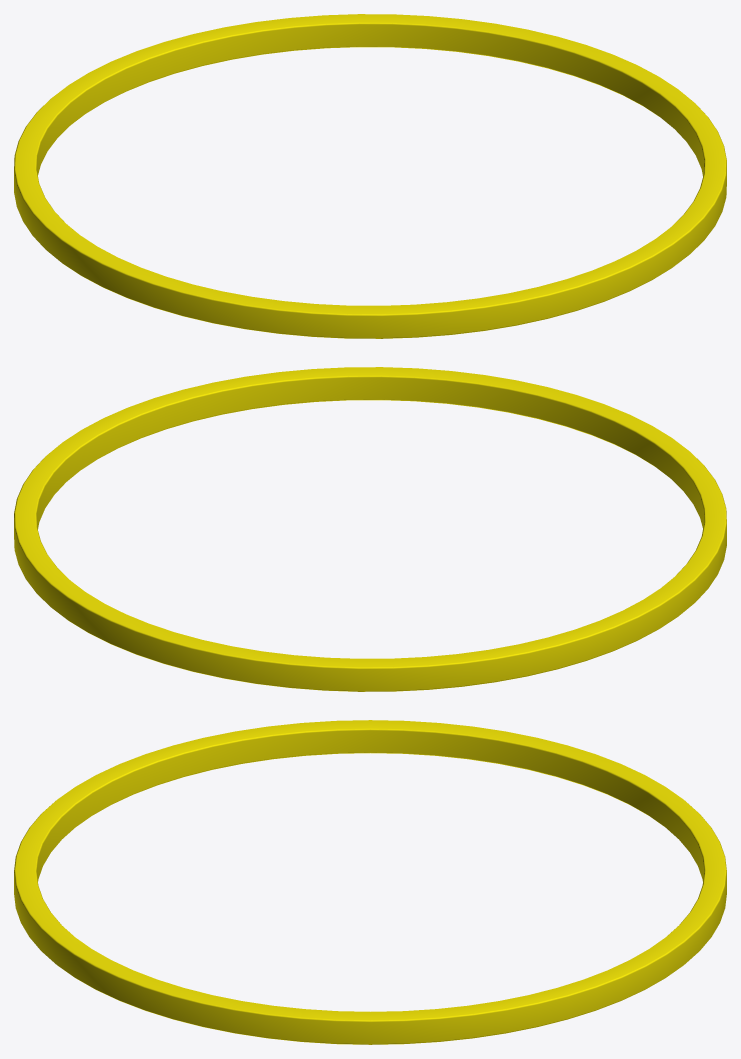
3 views of the same model, one above another, from view 1: azimuth 30°, elevation 25°; view 2: azimuth 150°, elevation 25°; view 3: azimuth 270°, elevation 25° (orthographic).
Visible parts, largest first — view 1: seal_body; view 2: seal_body; view 3: seal_body.
Boxes of the visible parts, box(x1,y1,x2,y2) form: seal_body: box(14, 14, 726, 338); seal_body: box(14, 367, 726, 691); seal_body: box(14, 720, 726, 1044).
Bounding box in the file's own units: 0.2475 × 0.0095 × 0.2475.
